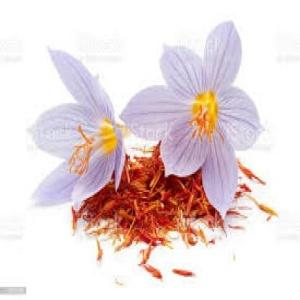Saffron: (121, 20, 264, 221), (27, 45, 129, 206)
